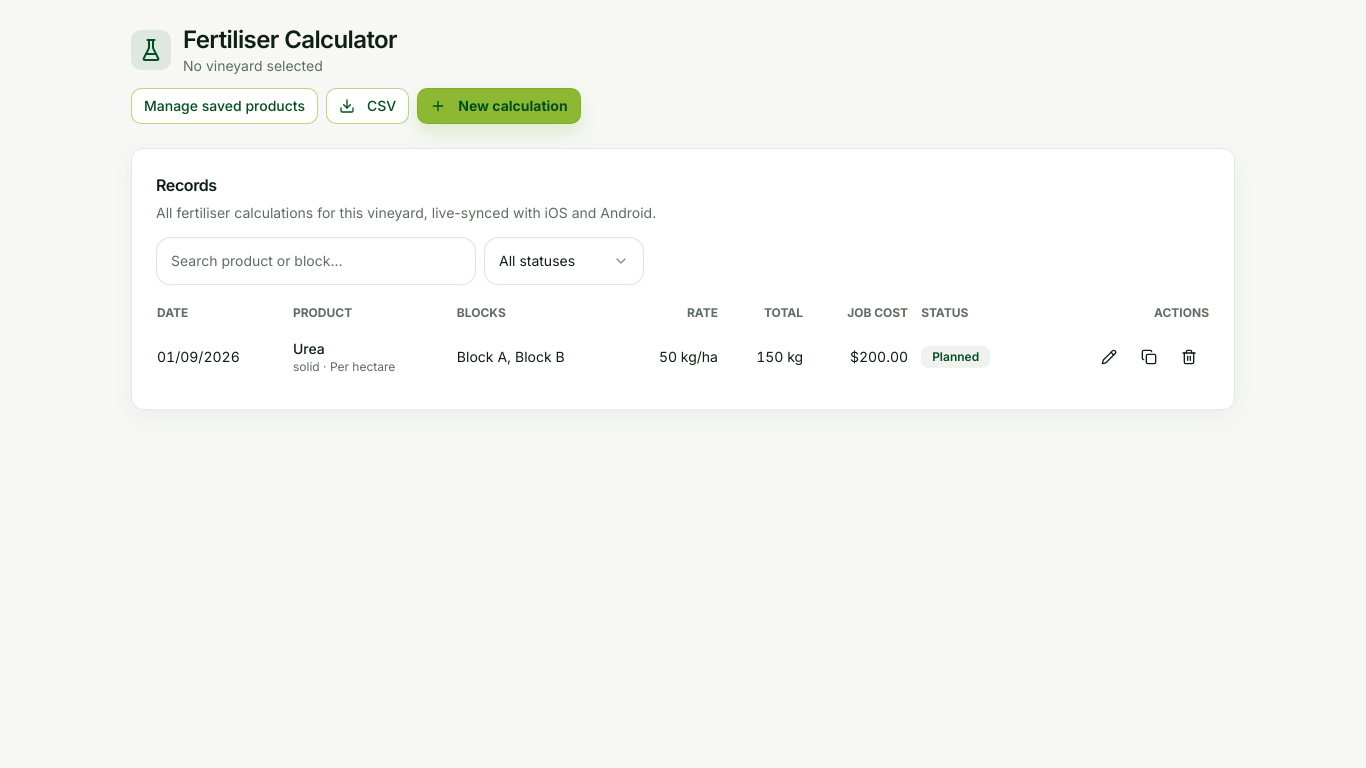
Fertiliser Mark Completed › Save changes keeps a planned record planned
Later steps or results of the test are not shown.
Step 1. Click the button titled "Edit" → (1109,357), box left=1089, top=337, right=1129, bottom=377
(page scrolled)
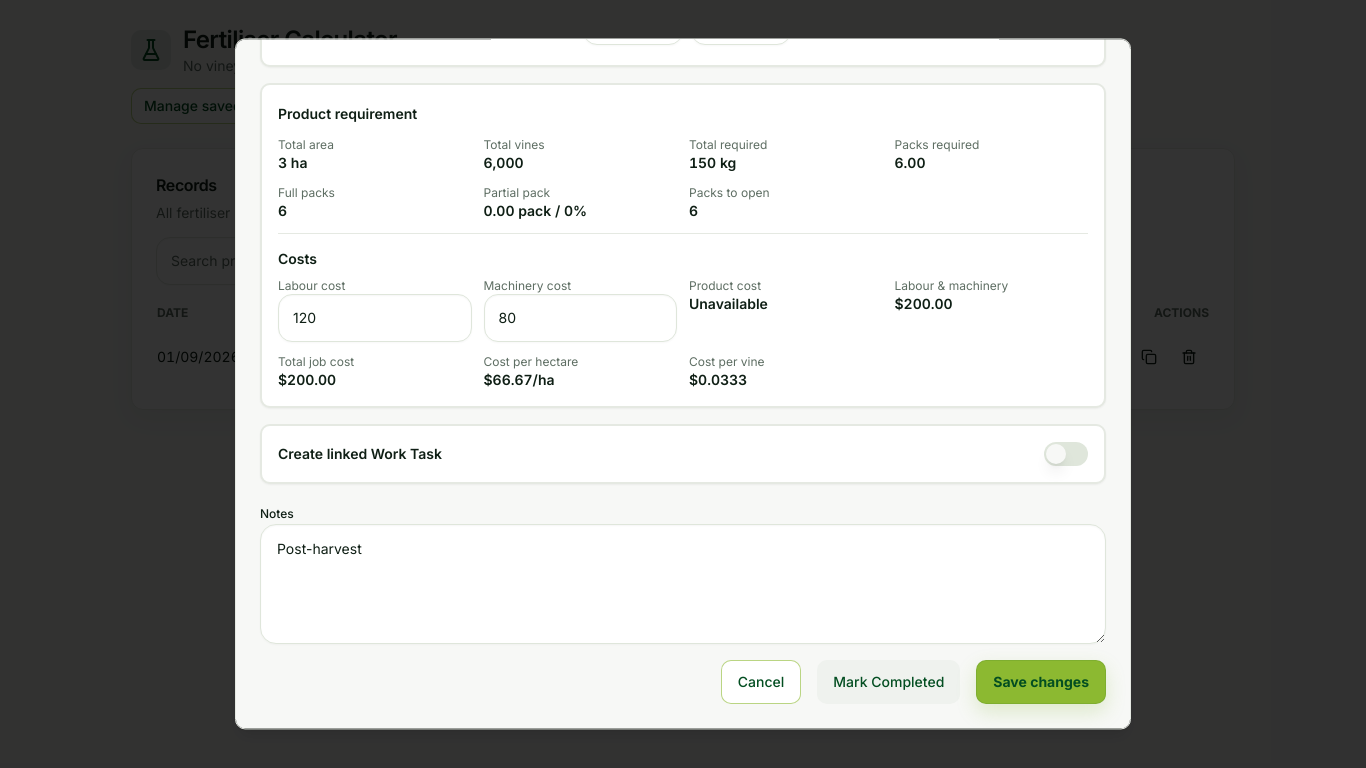
Expected: the button "Save changes" is enabled, left=976, top=660, right=1106, bottom=704
